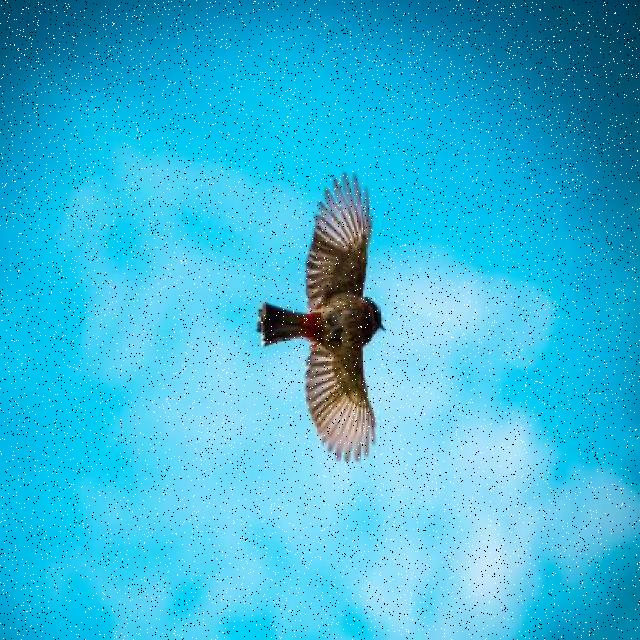bird: (256, 172, 386, 466)
